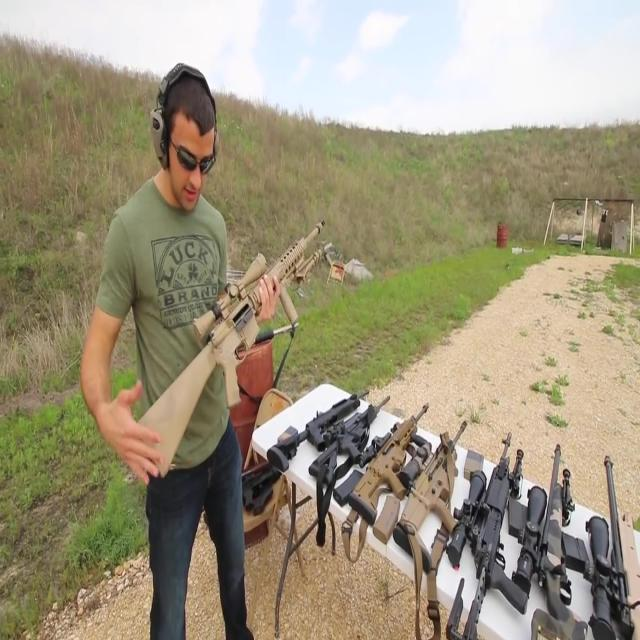Weapon: (223, 350, 640, 640), (87, 200, 339, 498)
